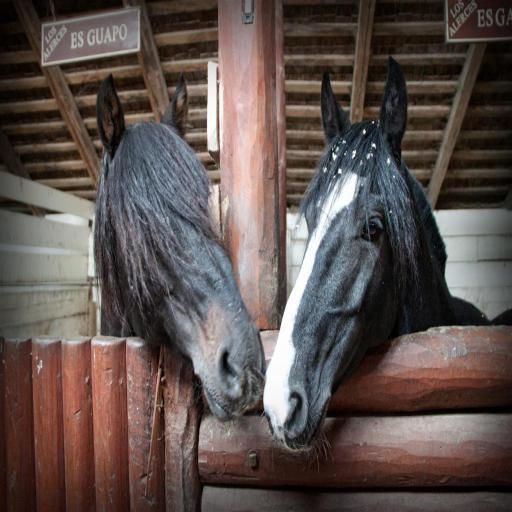horse: (261, 55, 512, 453), (92, 69, 268, 424)
